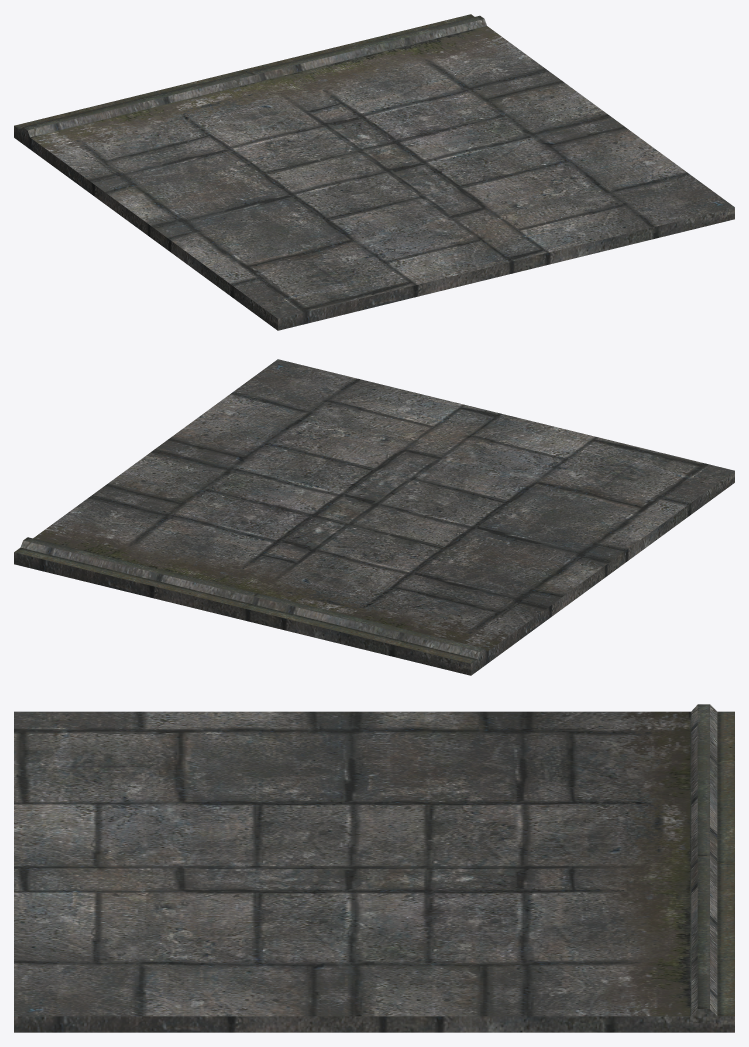
The model's file is floor1transu.fbx.
3 renders of one model, top to bottom at view 1: azimuth 30°, elevation 25°; view 2: azimuth 150°, elevation 25°; view 3: azimuth 270°, elevation 25°, orthographic. The views are drawn at different scales.
Parts seen in each view (by area): view 1: Mesh Object; view 2: Mesh Object; view 3: Mesh Object.
Boxes of the visible parts, x1,y1,x2,y2 form: Mesh Object: (14, 14, 734, 330); Mesh Object: (14, 359, 734, 675); Mesh Object: (14, 704, 734, 1032).
Bounding box in the file's own units: 4 × 0.1433 × 4.
